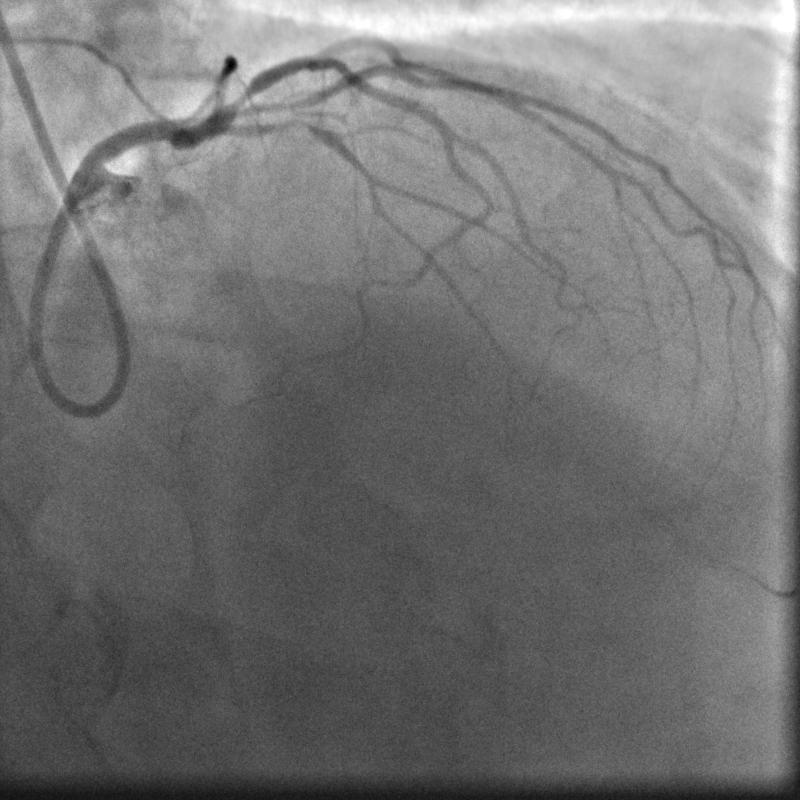Stenosis: (227, 81, 259, 115)
